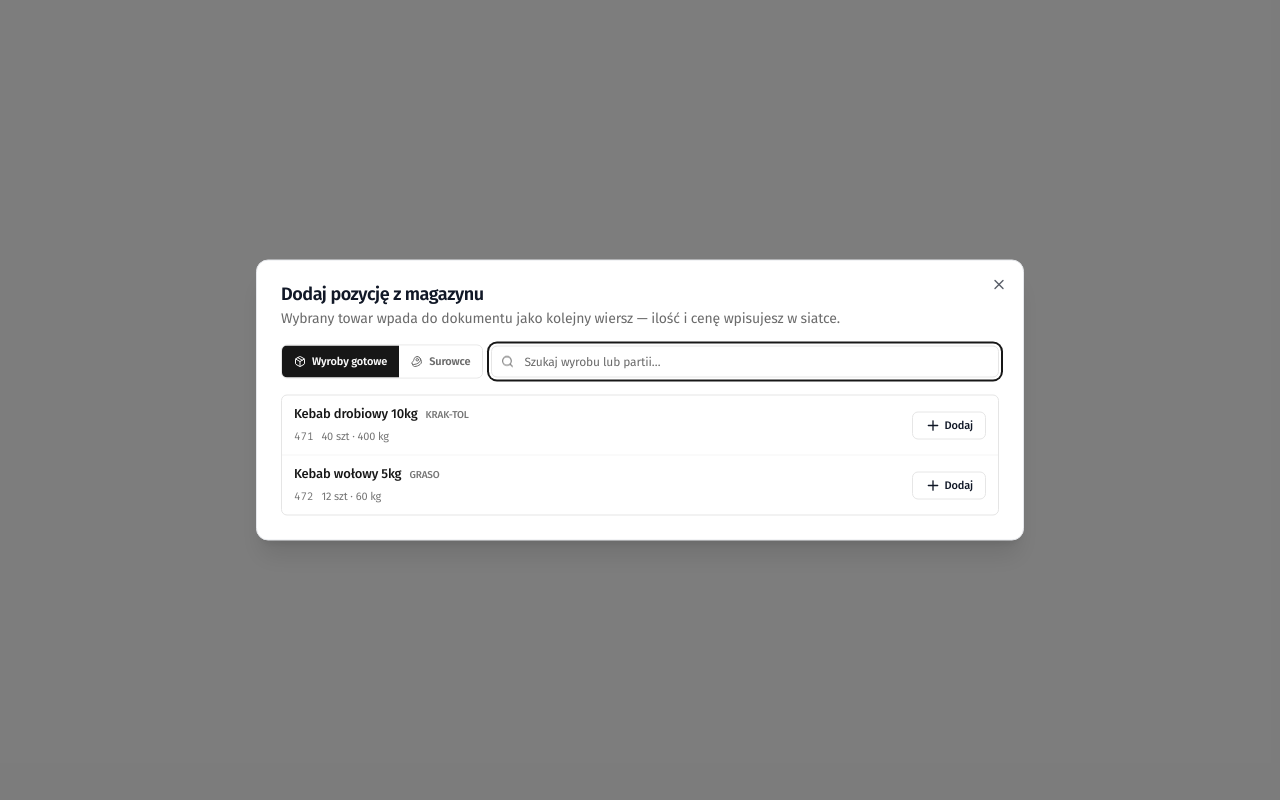
Test case: StockPickerDialog — wybór towaru na dokument › zakładka surowców dzieli stan na frakcje, żeby kości nie mieszały się z ćwiartką
Click the button labelled "Surowce" at (441, 362), box [399,346,482,378]
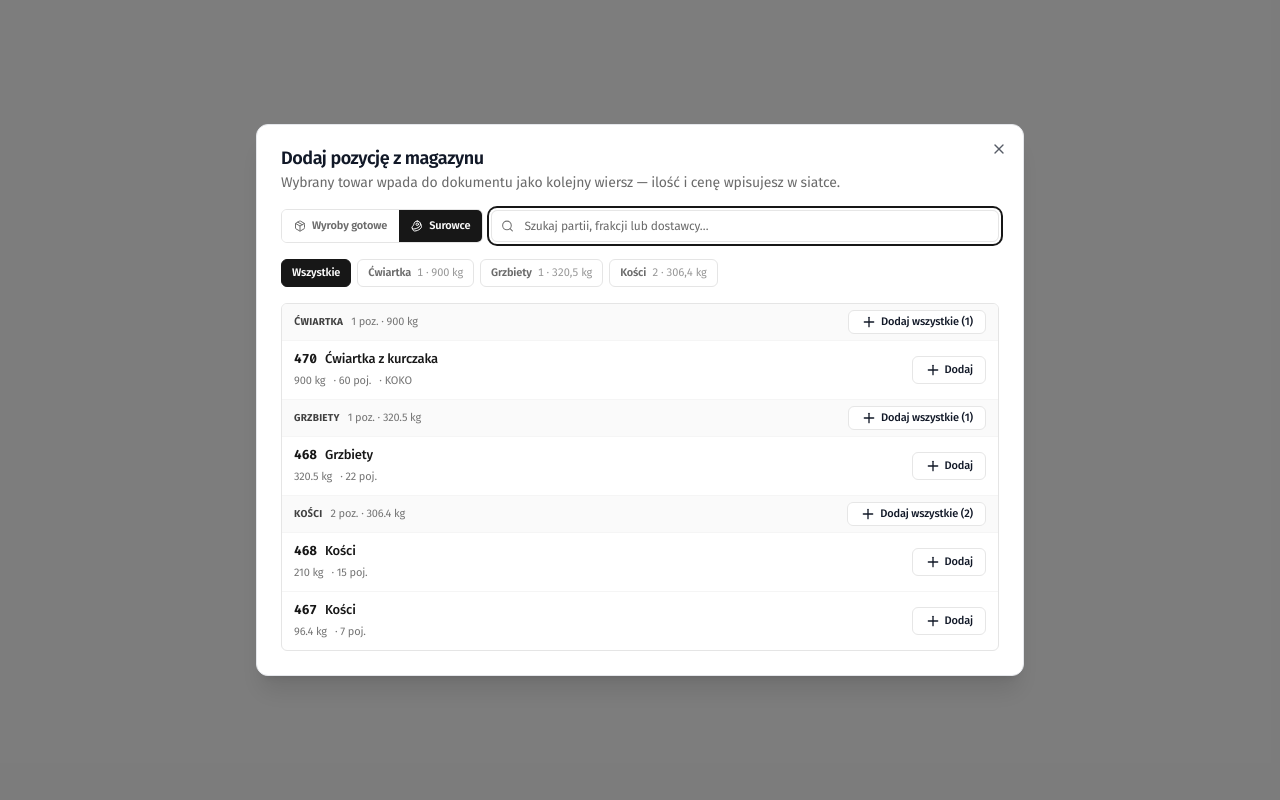
Expected: the element named "Grupa Ćwiartka" is shown, [282,304,998,341]
Expected: the element named "Grupa Grzbiety" is shown, [282,400,998,437]
Expected: the element named "Grupa Kości" is shown, [282,496,998,533]
